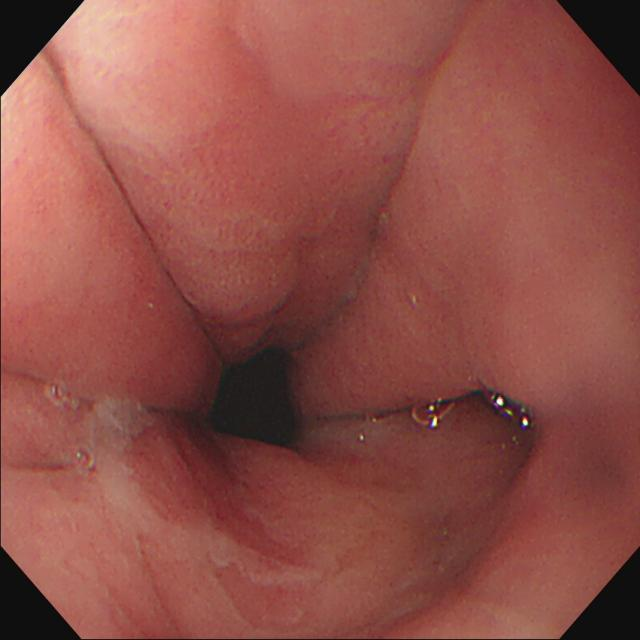A: (147, 113, 410, 312)
E: (215, 349, 300, 447)
J: (119, 520, 322, 582), (83, 398, 160, 519)
U: (488, 394, 532, 429)
